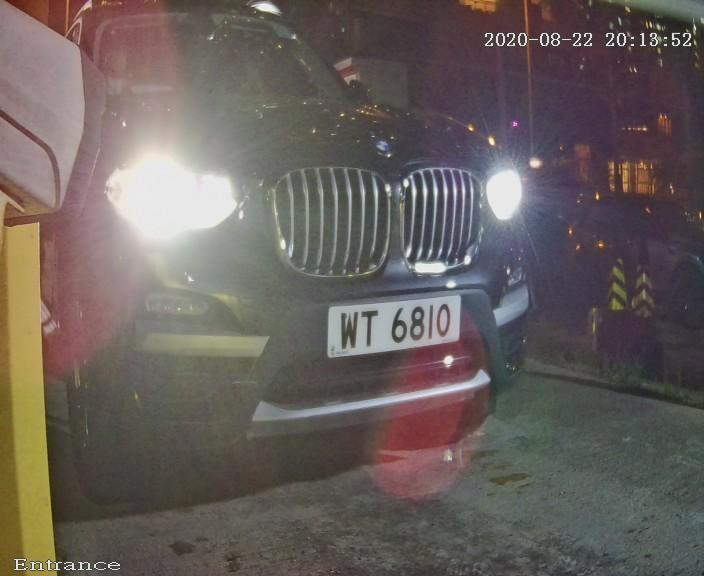License Plate: (298, 269, 484, 377)
